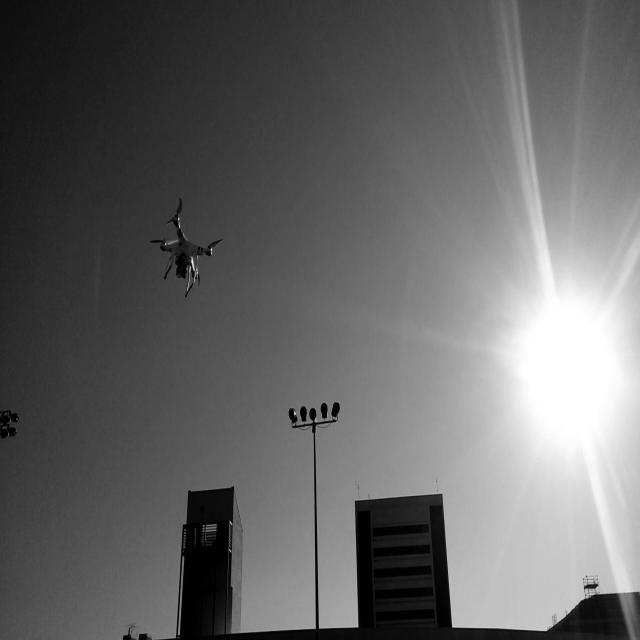drone: (147, 200, 222, 300)
